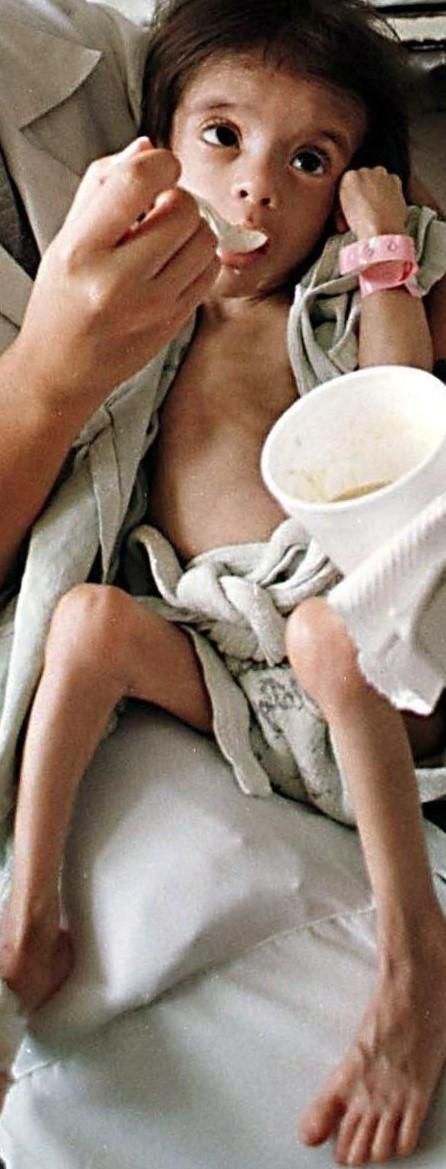Stunting: (0, 0, 446, 390)
